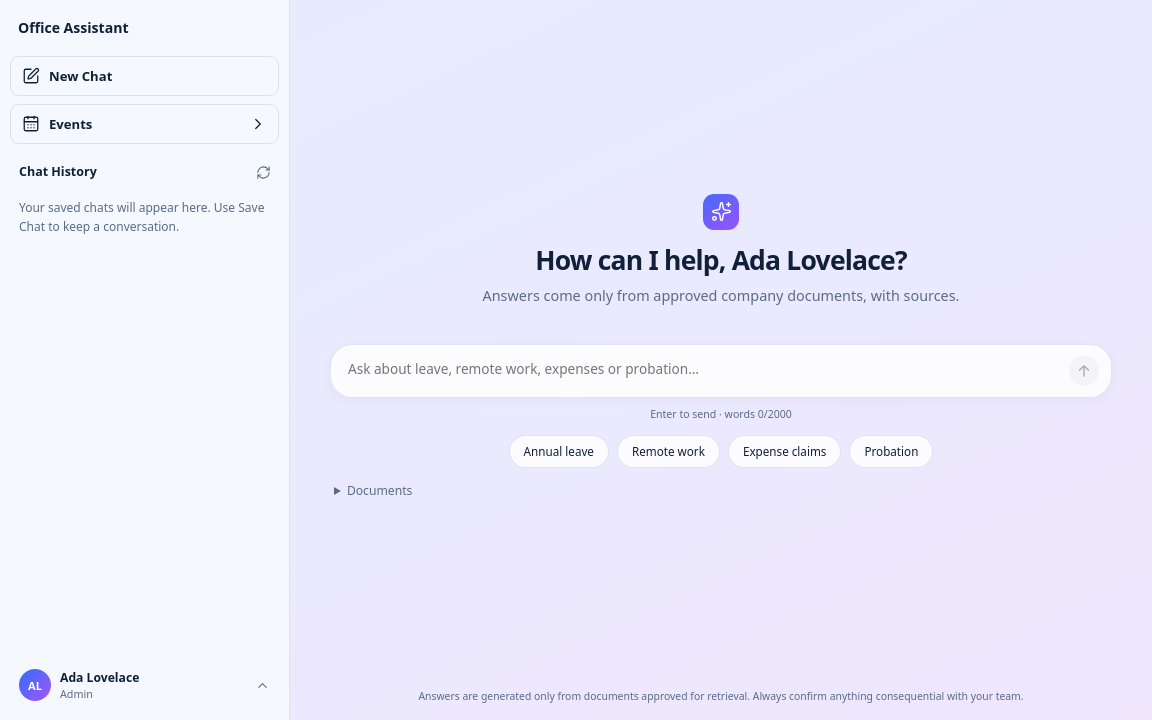
Test case: conversation › shows the first user message and the first assistant response
Expected: the button named "send question" is shown, [1069,356,1099,386]
Type "How many annual leave days do employees receive?" into the text box labelled "Ask about leave, remote work, expenses or probation…" at (704, 371), box [348,357,1061,385]
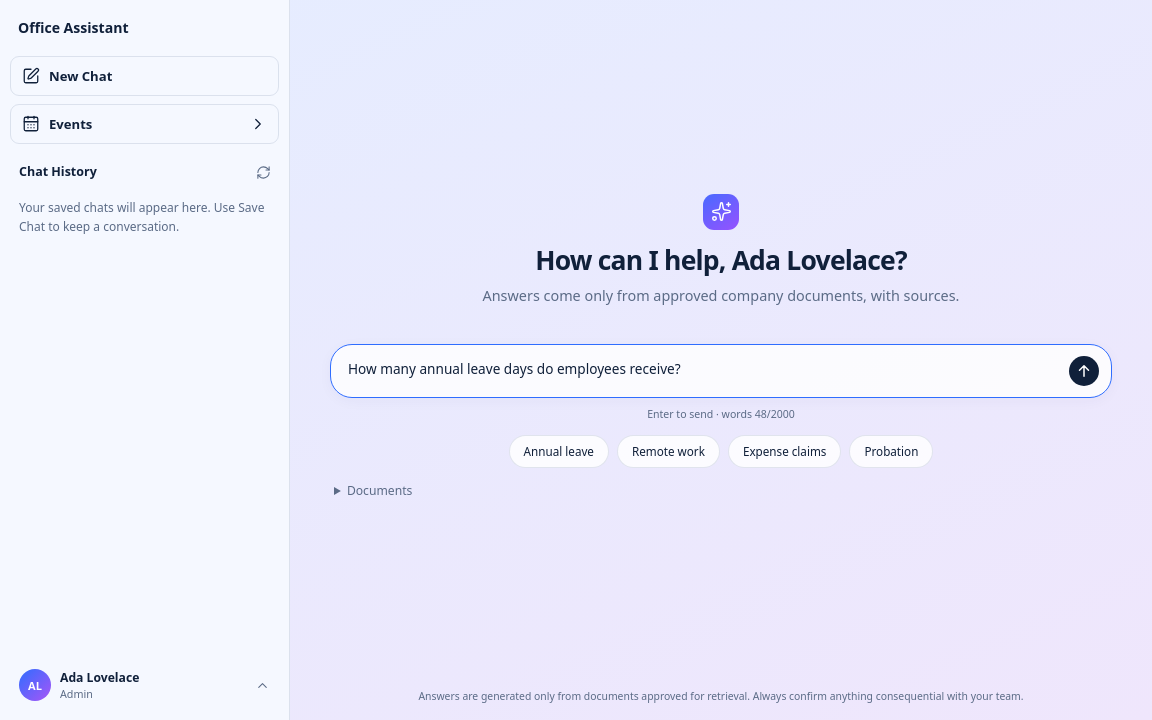
Click the button named "send question" at (1084, 371), box [1069,356,1099,386]
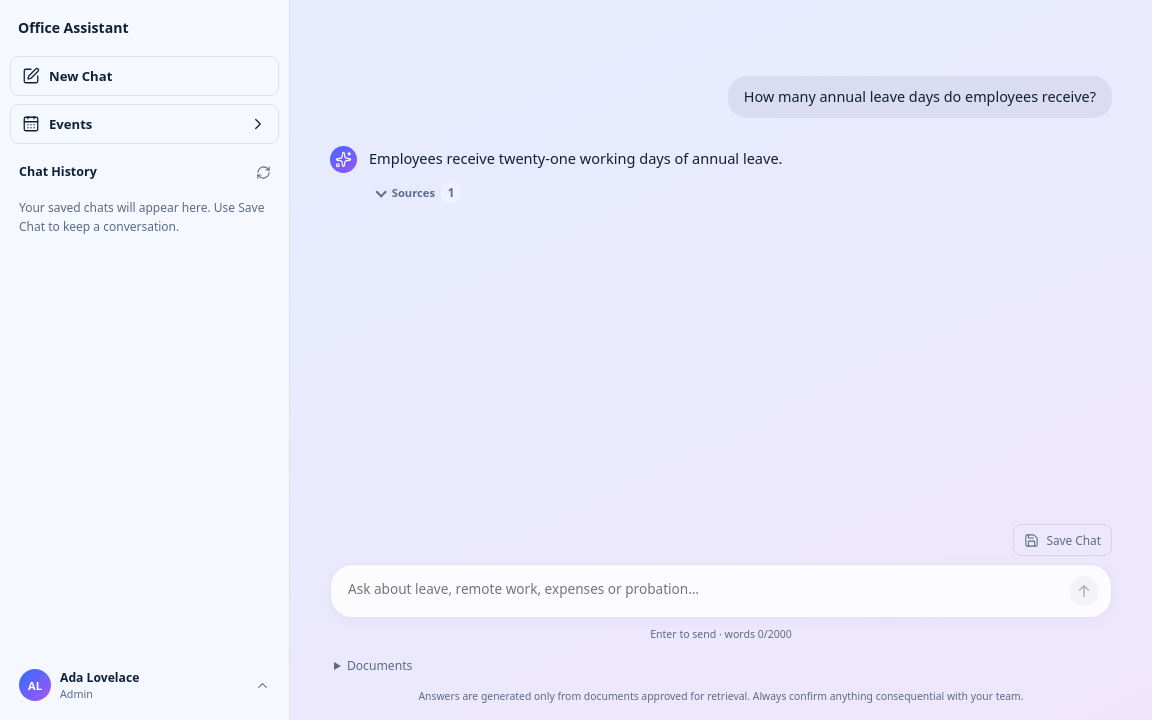
Expected: the text "How many annual leave days do employees receive?" is shown, [744,86,1096,108]
Expected: the text "Employees receive twenty-one working days of annual leave." is shown, [369,148,782,168]
